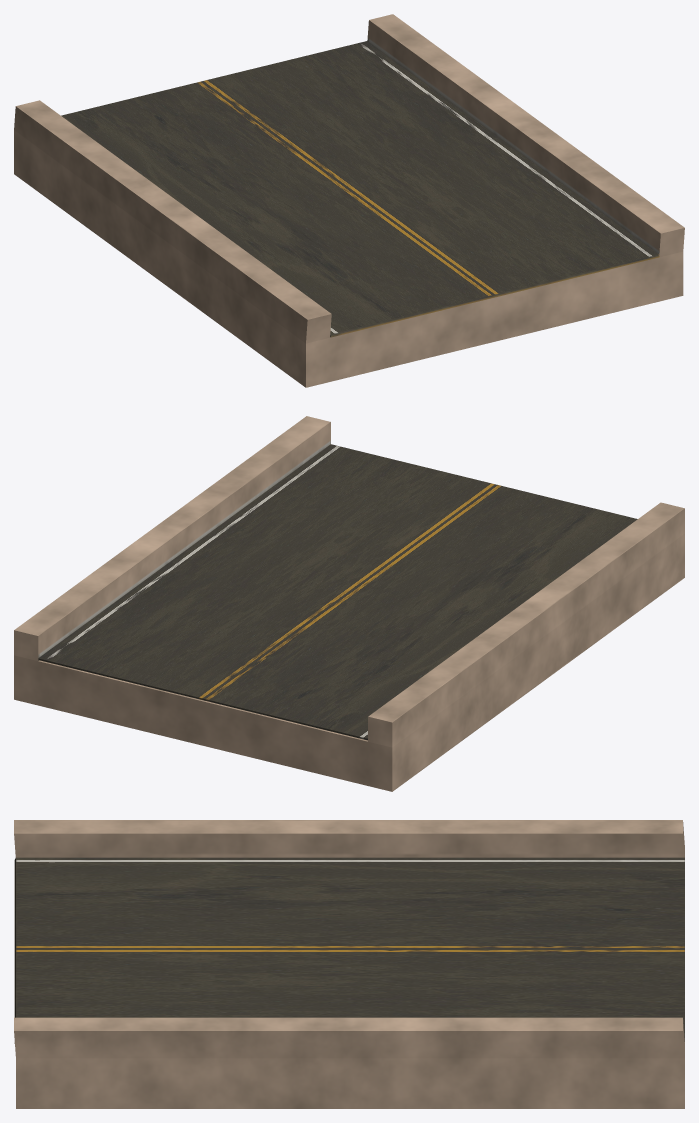
Rendered from Road_Tile_Clear.fbx.
The picture shows the model from 3 angles, top to bottom: view 1: azimuth 30°, elevation 25°; view 2: azimuth 150°, elevation 25°; view 3: azimuth 270°, elevation 25°; orthographic projection. The views are drawn at different scales.
Parts seen in each view (by area): view 1: Road, Road_Tiles; view 2: Road, Road_Tiles; view 3: Road, Road_Tiles.
Part boxes in pixels (x1,y1,x2,y2): Road: (61,41,659,337); Road_Tiles: (14,14,684,387); Road: (38,444,637,740); Road_Tiles: (14,416,684,791); Road: (14,857,684,1043); Road_Tiles: (14,820,684,1108).
Size of the model in its own units: 394 by 68.13 by 528.
1 material, 1 textured.
